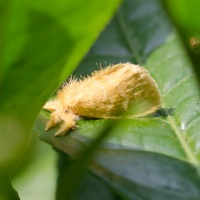insect: (43, 63, 159, 135)
